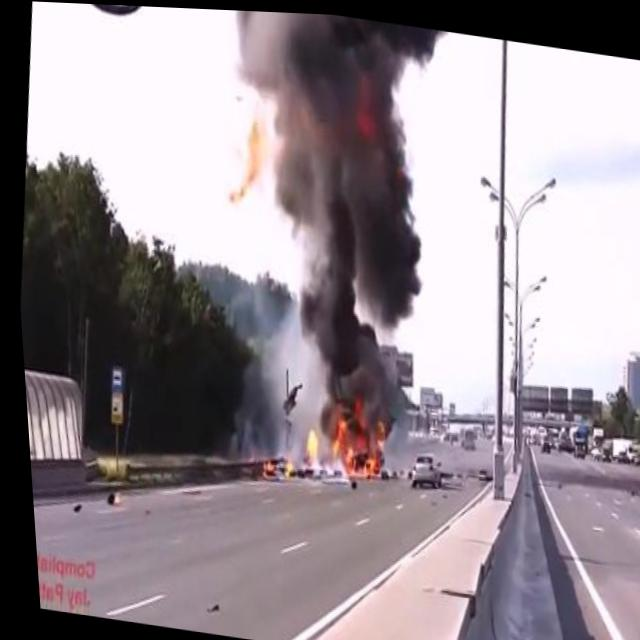fire: (290, 382, 387, 488), (250, 447, 291, 480)
